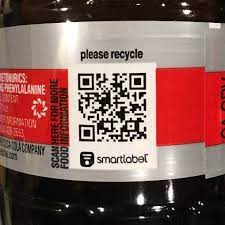qr_code: (73, 68, 153, 148)
